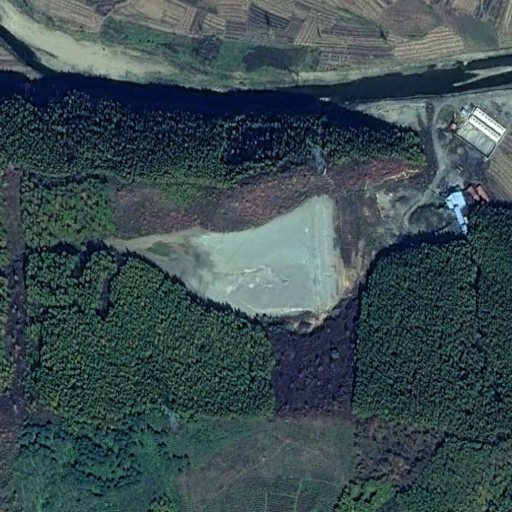tp: (112, 187, 381, 322)
